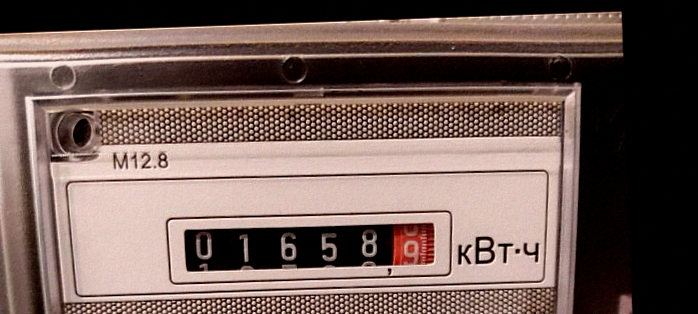0: (192, 229, 213, 260)
1: (235, 231, 254, 263)
5: (317, 230, 339, 261)
6: (277, 228, 298, 262)
8: (358, 225, 379, 258)
9: (399, 238, 421, 266)
screen: (156, 198, 458, 292)
